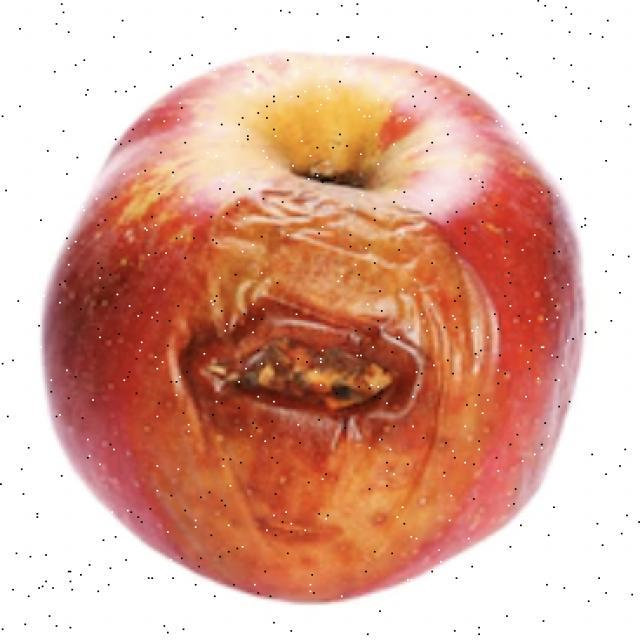Rotten: (46, 53, 592, 610)
